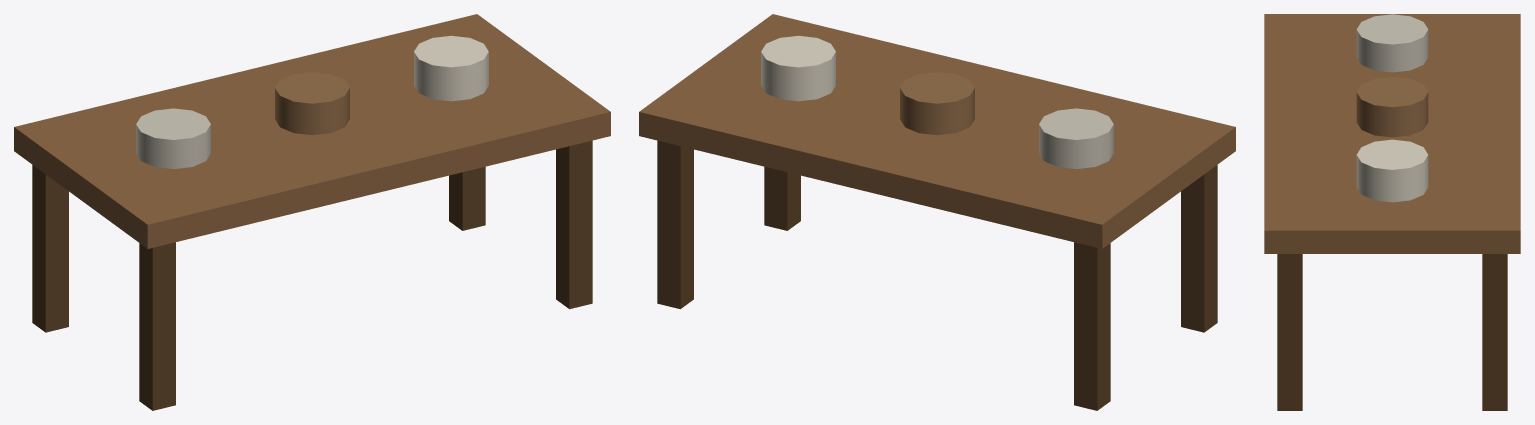
The model's file is ritual-table.glb.
The picture shows the model from 3 angles, left to right: view 1: azimuth 30°, elevation 25°; view 2: azimuth 150°, elevation 25°; view 3: azimuth 270°, elevation 25°; orthographic projection. The views are drawn at different scales.
Size of the model in its own units: 1 by 0.47 by 0.5.
